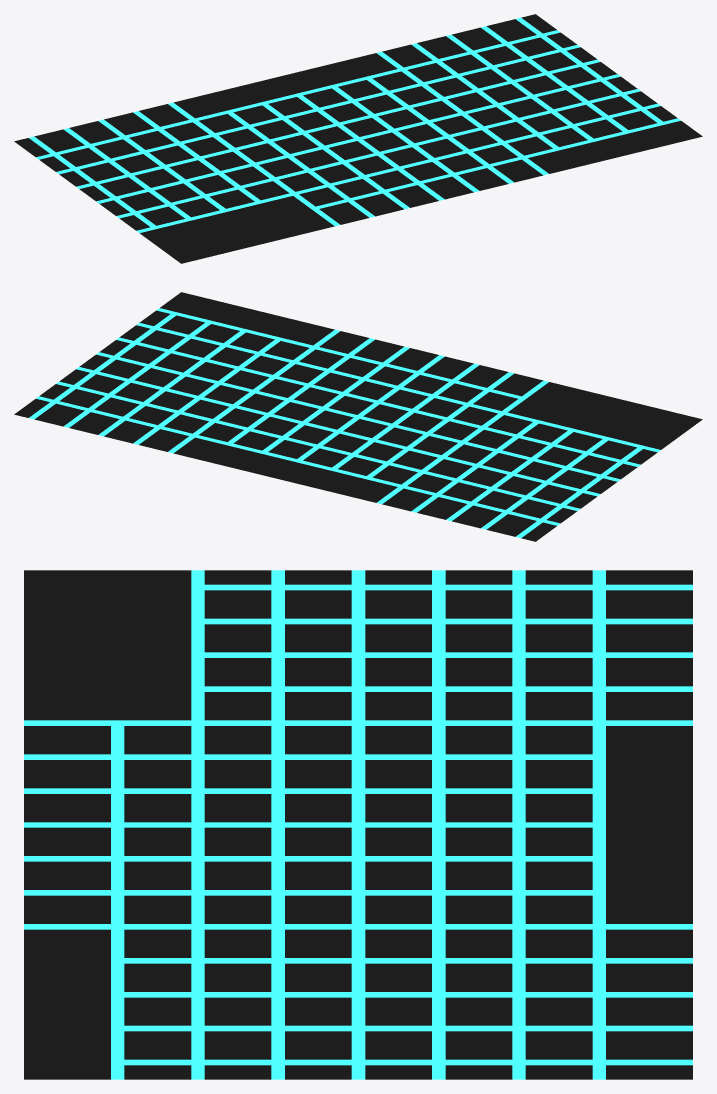
The model's file is infield.fbx.
3 renders of one model, top to bottom at view 1: azimuth 30°, elevation 25°; view 2: azimuth 150°, elevation 25°; view 3: azimuth 270°, elevation 25°, orthographic. The views are drawn at different scales.
Parts seen in each view (by area): view 1: Field; view 2: Field; view 3: Field.
Boxes of the visible parts, box(x1,y1,x2,y2) form: Field: box(14, 14, 702, 263); Field: box(14, 292, 702, 541); Field: box(24, 570, 692, 1079).
Size of the model in its own units: 4500 by 0.000407 by 2500.
